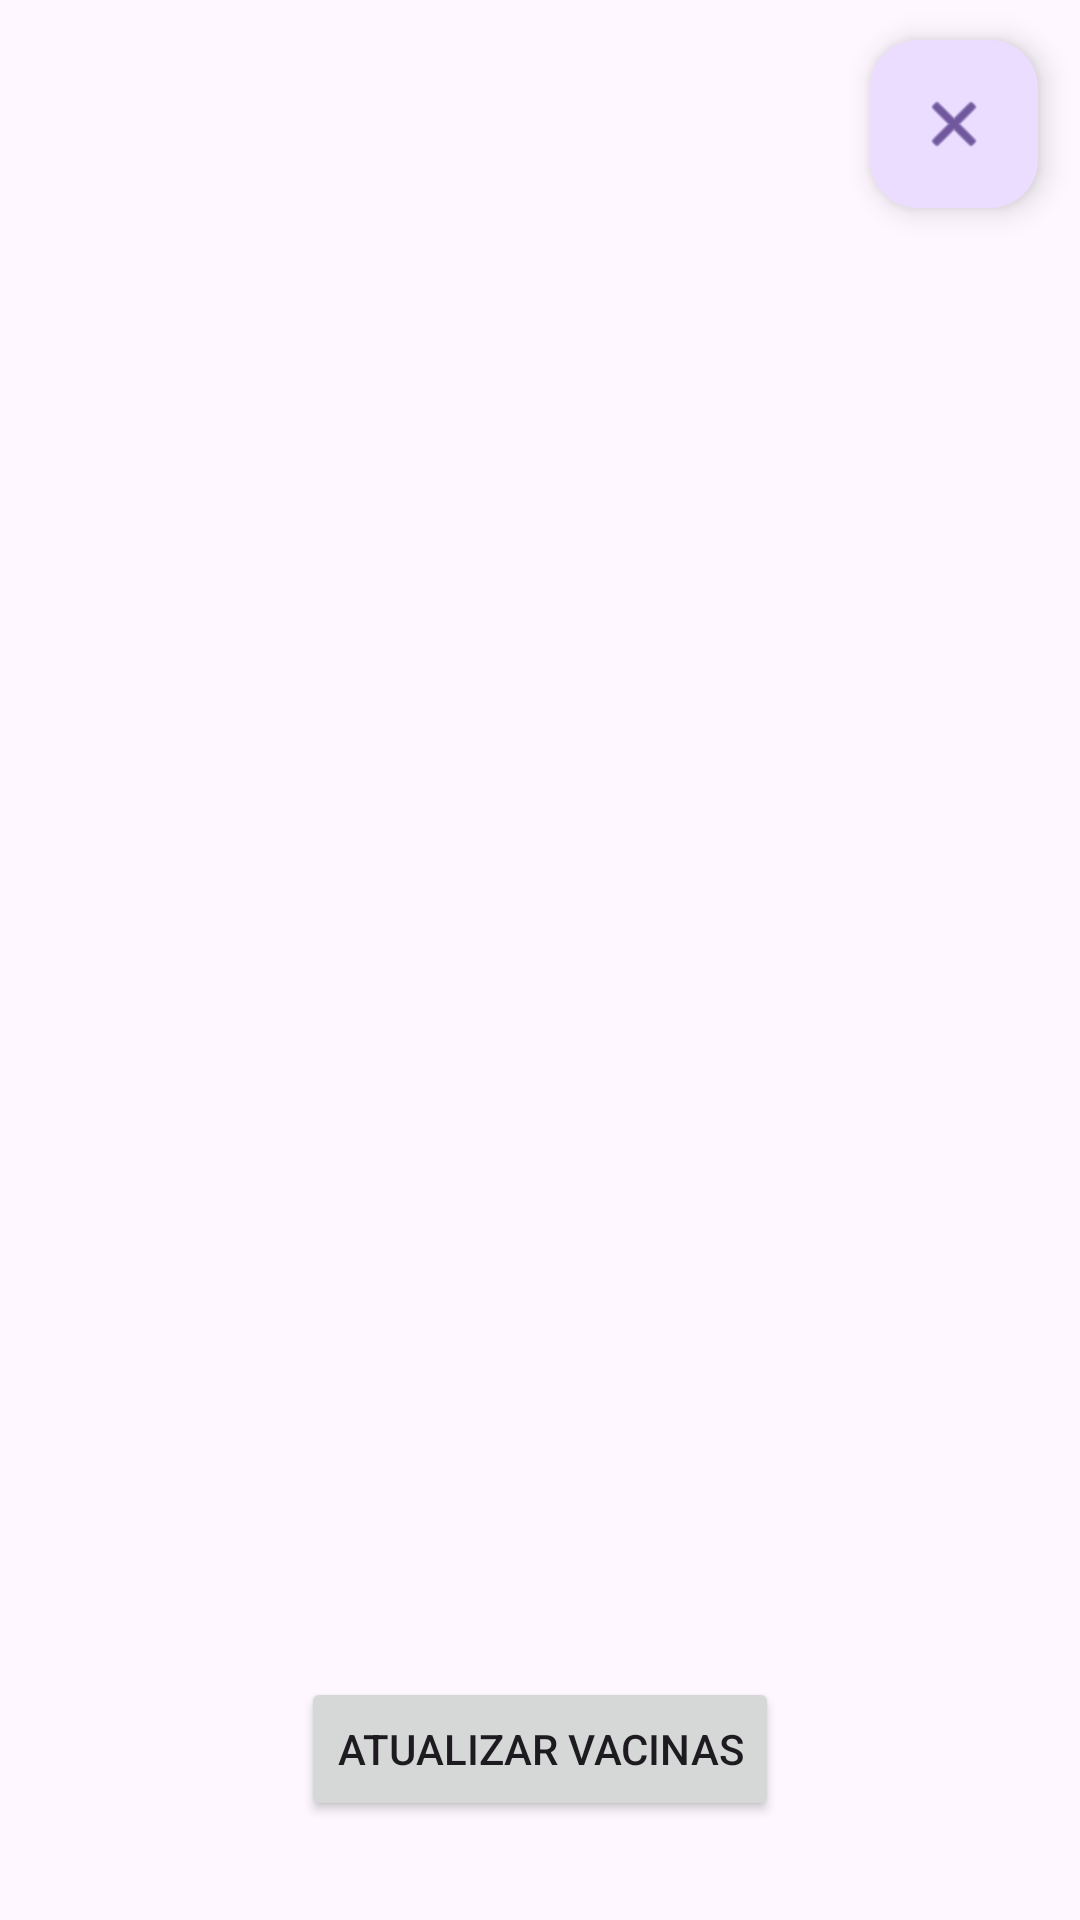

Icon click points for this 1080×1920 phone screenshot, format point (x, y):
close clear cancel: point (954, 124)
